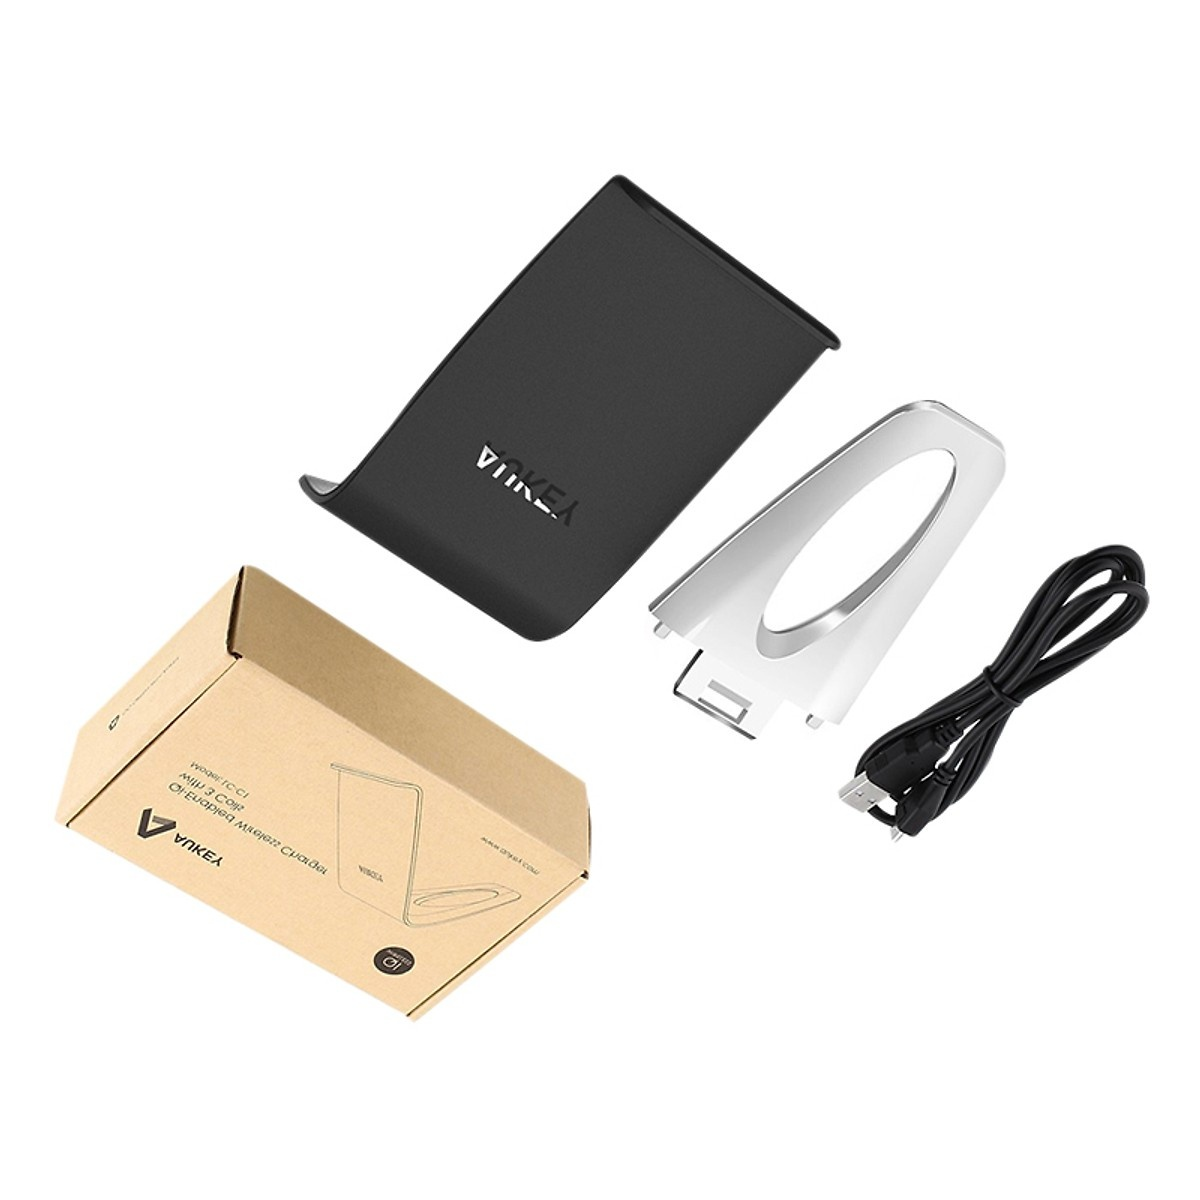Aukey: (432, 359, 646, 536), (120, 762, 265, 909)
